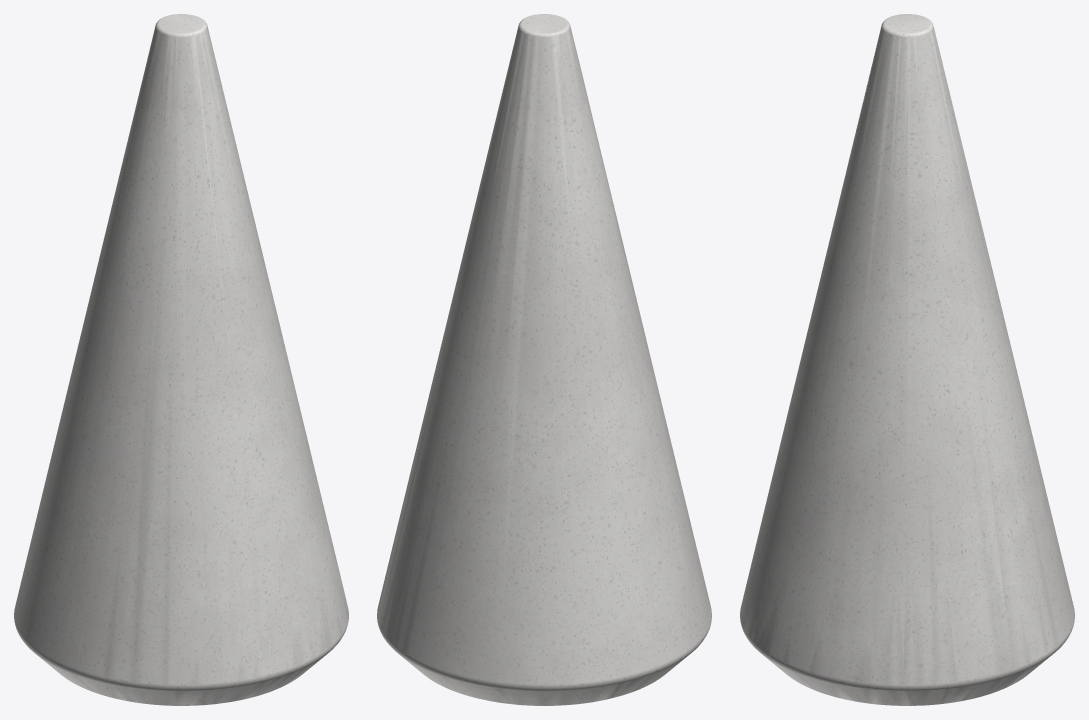
Rendered from pawn-white.glb.
3 views of the same model, side by side, from view 1: azimuth 30°, elevation 25°; view 2: azimuth 150°, elevation 25°; view 3: azimuth 270°, elevation 25° (orthographic).
Visible parts, largest first — view 1: 01_pesec_bila; view 2: 01_pesec_bila; view 3: 01_pesec_bila.
Part boxes in pixels (x1,y1,x2,y2): 01_pesec_bila: (14, 14, 348, 705); 01_pesec_bila: (377, 14, 711, 705); 01_pesec_bila: (740, 14, 1074, 705).
Size of the model in its own units: 0.6406 by 1.32 by 0.6406.
1 material, 1 textured.
